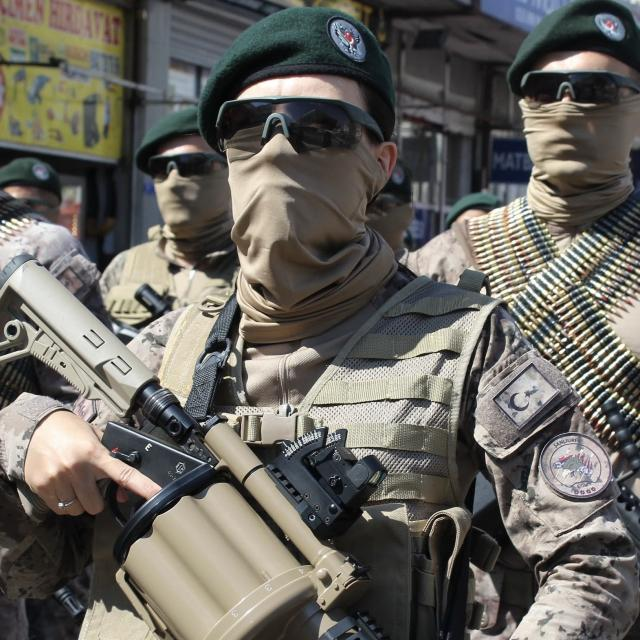poh_personel: (4, 0, 640, 640), (398, 0, 640, 484), (100, 109, 245, 331)
